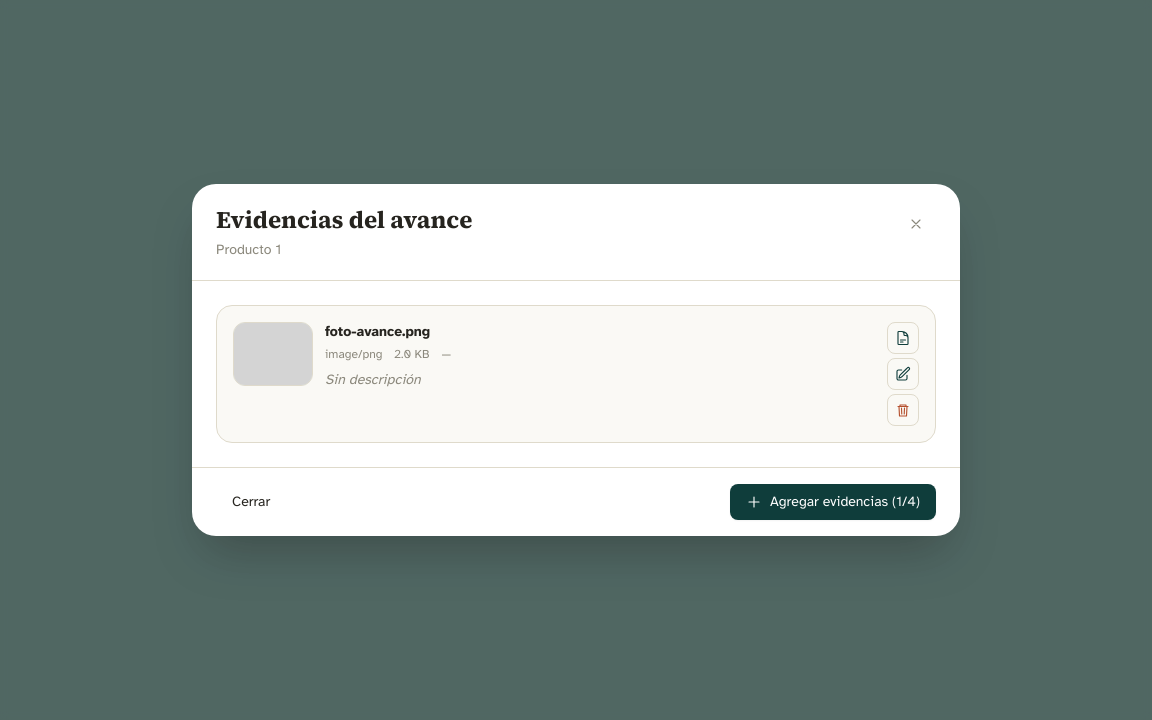
Test: descripción de evidencias › cancela la edición sin guardar
Click the button titled "Editar descripción" at (903, 374), box [887,358,919,390]
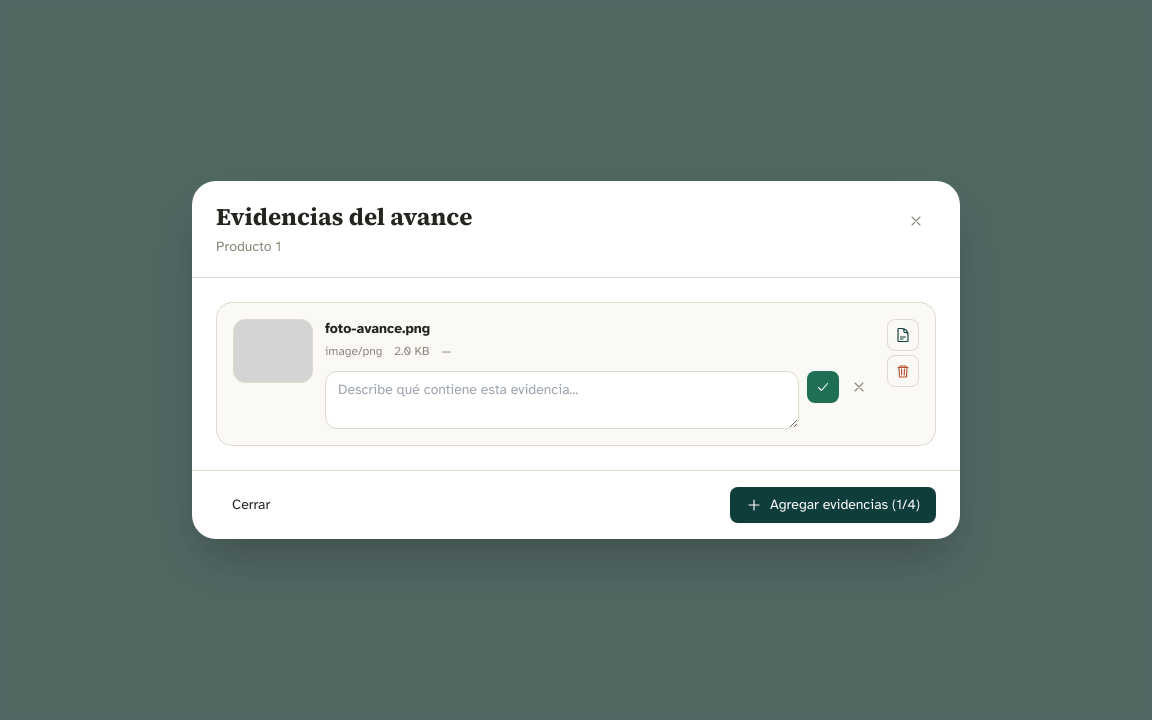
Type "temporal" into the text box at (562, 400), box [325,371,799,429]
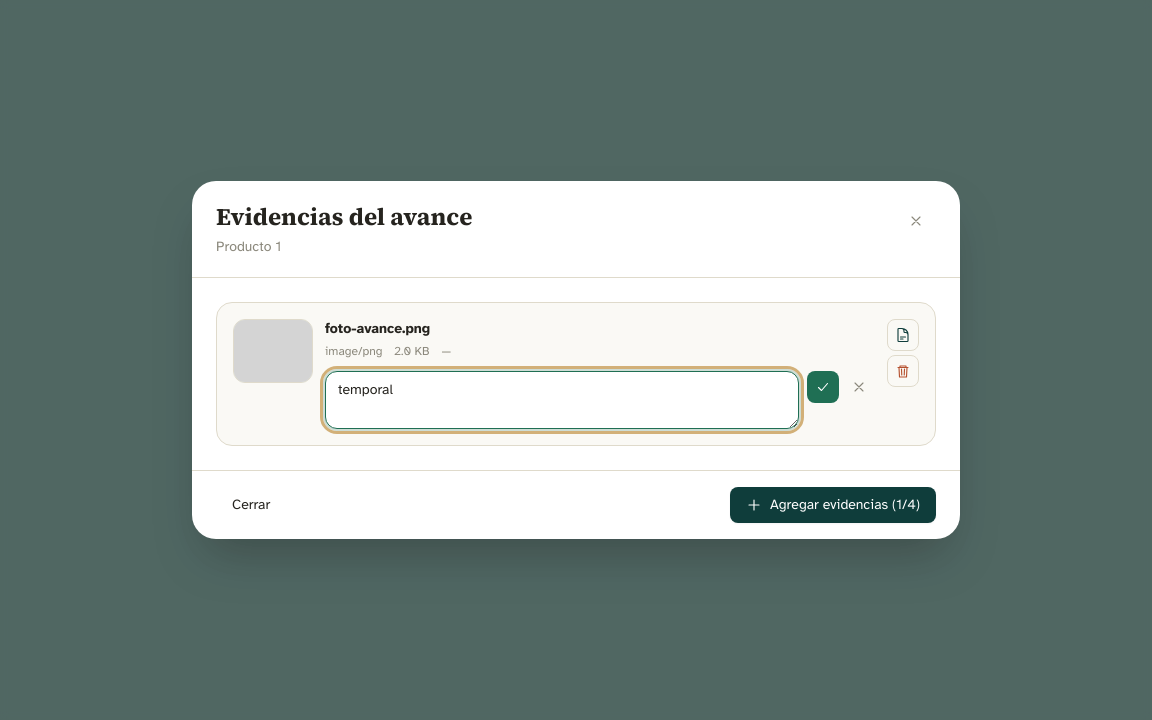
Click the button titled "Cancelar" at (859, 387), box [843,371,875,403]
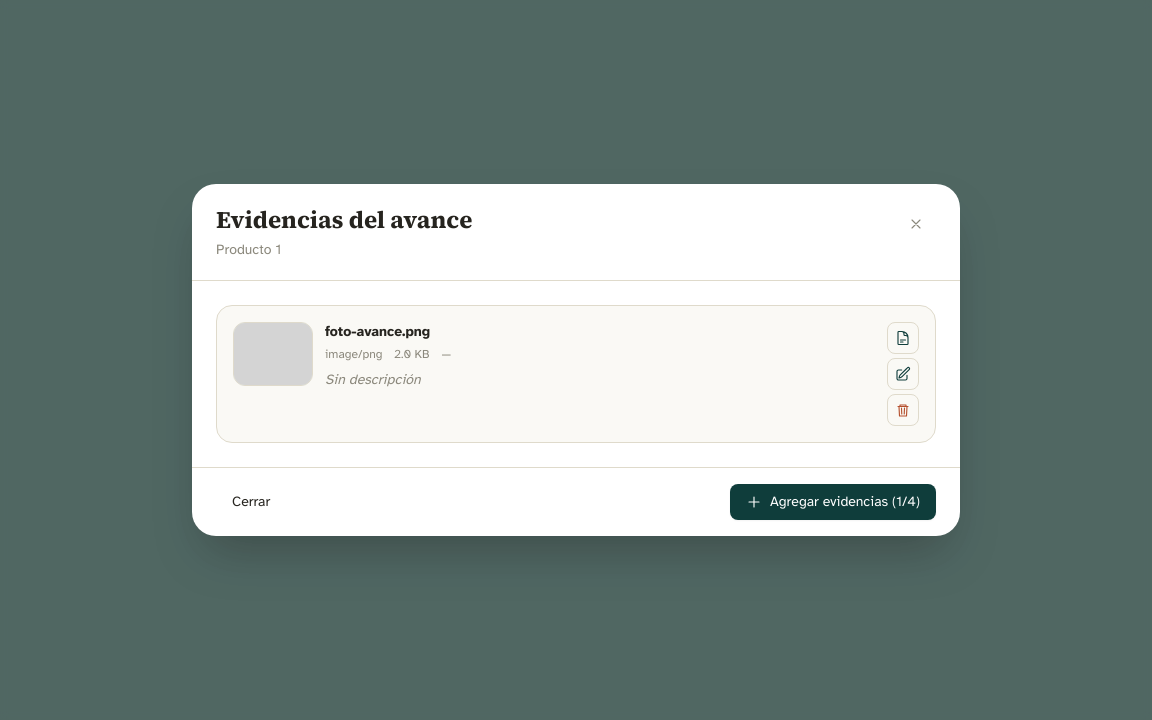
Check: the text "Sin descripción" is shown, box [325,371,421,388]
